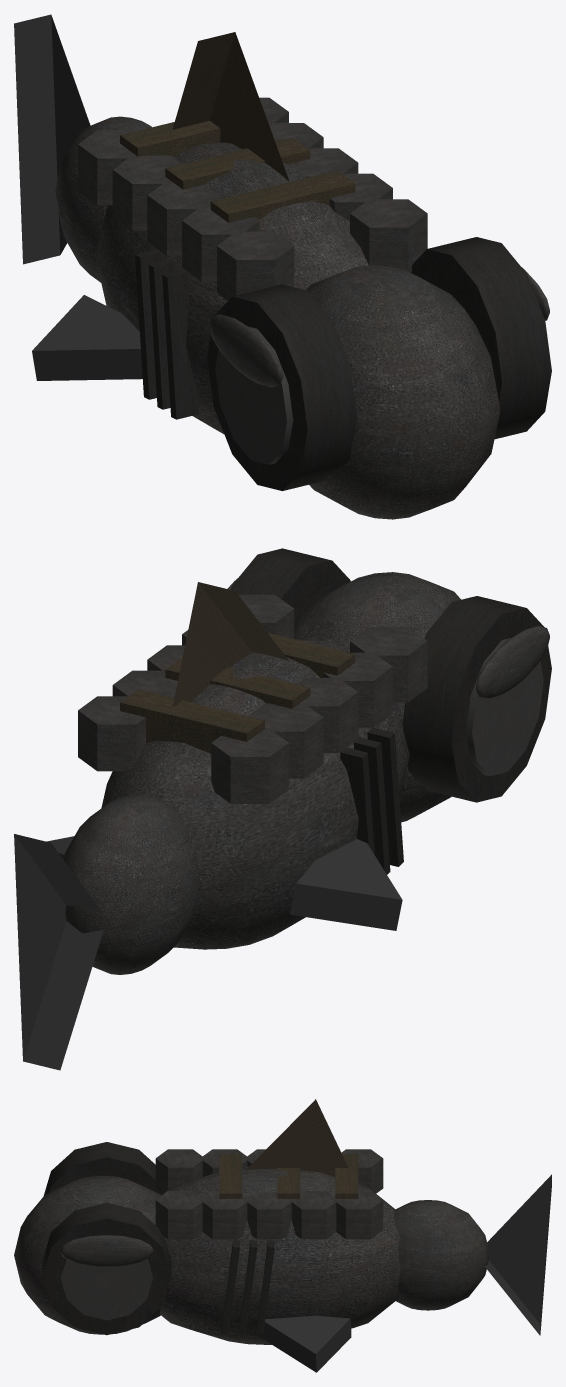
File: wild-somun-sardalya.glb
3 renders of one model, top to bottom at view 1: azimuth 30°, elevation 25°; view 2: azimuth 150°, elevation 25°; view 3: azimuth 270°, elevation 25°, orthographic. The views are drawn at different scales.
Visible parts, largest first — view 1: SomunSardalya__Head_Mesh, SomunSardalya__Body_Mesh, SomunSardalya__TailTip_Mesh, SomunSardalya__Fin_L_Mesh, SomunSardalya__Tail_Mesh, SomunSardalya__Lid_L_Mesh; view 2: SomunSardalya__Body_Mesh, SomunSardalya__Head_Mesh, SomunSardalya__Tail_Mesh, SomunSardalya__TailTip_Mesh, SomunSardalya__Fin_L_Mesh, SomunSardalya__Lid_L_Mesh; view 3: SomunSardalya__Body_Mesh, SomunSardalya__Head_Mesh, SomunSardalya__Tail_Mesh, SomunSardalya__TailTip_Mesh, SomunSardalya__Fin_R_Mesh, SomunSardalya__Lid_R_Mesh.
Boxes of the visible parts, x1=… form: SomunSardalya__Head_Mesh: x1=207, y1=237, x2=551, y2=519; SomunSardalya__Body_Mesh: x1=78, y1=32, x2=427, y2=433; SomunSardalya__TailTip_Mesh: x1=14, y1=14, x2=90, y2=264; SomunSardalya__Fin_L_Mesh: x1=32, y1=295, x2=142, y2=380; SomunSardalya__Tail_Mesh: x1=55, y1=116, x2=151, y2=282; SomunSardalya__Lid_L_Mesh: x1=209, y1=314, x2=283, y2=387; SomunSardalya__Body_Mesh: x1=78, y1=582, x2=427, y2=949; SomunSardalya__Head_Mesh: x1=230, y1=548, x2=551, y2=822; SomunSardalya__Tail_Mesh: x1=63, y1=794, x2=199, y2=974; SomunSardalya__TailTip_Mesh: x1=14, y1=834, x2=103, y2=1070; SomunSardalya__Fin_L_Mesh: x1=290, y1=839, x2=402, y2=930; SomunSardalya__Lid_L_Mesh: x1=476, y1=626, x2=549, y2=698; SomunSardalya__Body_Mesh: x1=155, y1=1099, x2=400, y2=1344; SomunSardalya__Head_Mesh: x1=14, y1=1142, x2=171, y2=1335; SomunSardalya__Tail_Mesh: x1=394, y1=1200, x2=489, y2=1310; SomunSardalya__TailTip_Mesh: x1=485, y1=1174, x2=551, y2=1335; SomunSardalya__Fin_R_Mesh: x1=253, y1=1315, x2=351, y2=1372; SomunSardalya__Lid_R_Mesh: x1=59, y1=1235, x2=153, y2=1266.
Size of the model in its own units: 0.2935 by 0.28 by 0.5838.
5 materials, 5 textured.
